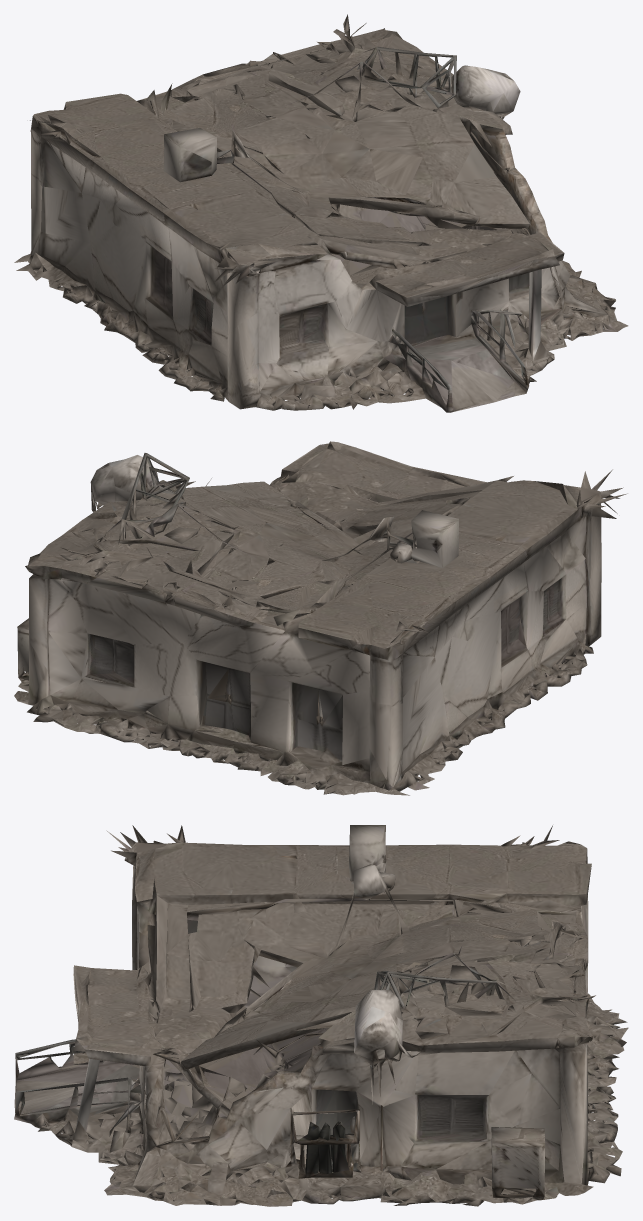
Rendered from clinic_wreck.glb.
3 renders of one model, top to bottom at view 1: azimuth 30°, elevation 25°; view 2: azimuth 150°, elevation 25°; view 3: azimuth 270°, elevation 25°, orthographic. The views are drawn at different scales.
Parts seen in each view (by area): view 1: wall, metal; view 2: wall, metal; view 3: metal, wall.
Boxes of the visible parts, x1,y1,x2,y2 form: wall: (28, 14, 616, 412); metal: (14, 29, 628, 412); wall: (17, 442, 627, 795); metal: (14, 441, 611, 795); metal: (14, 830, 628, 1206); wall: (14, 825, 627, 1206).
Size of the model in its own units: 11.97 by 5.35 by 13.92.
1 material, 1 textured.
